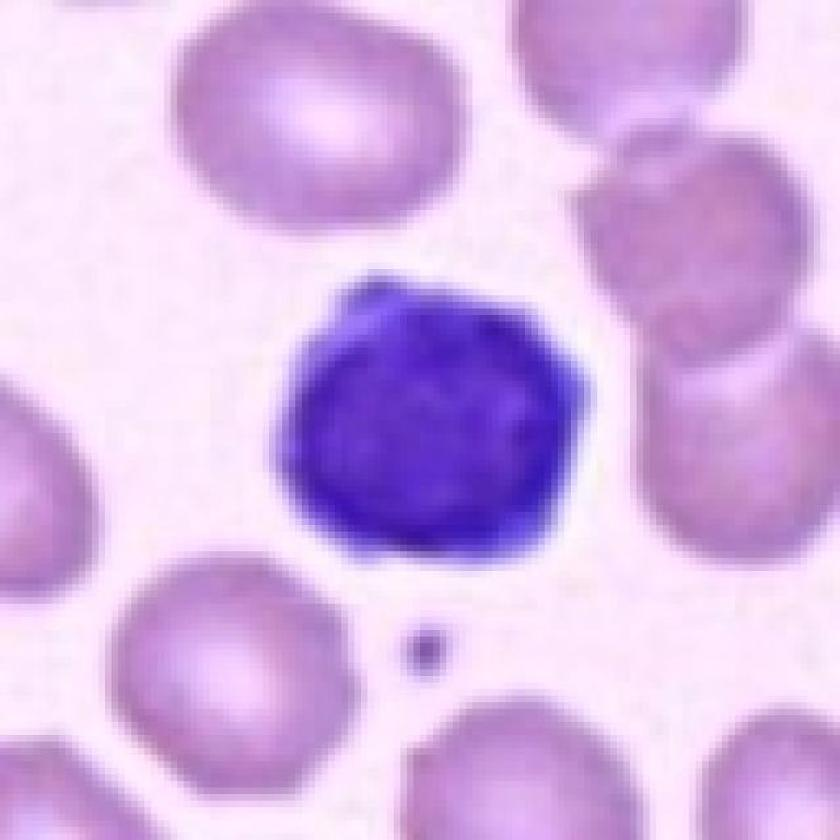lymphocyte: (270, 260, 609, 575)
